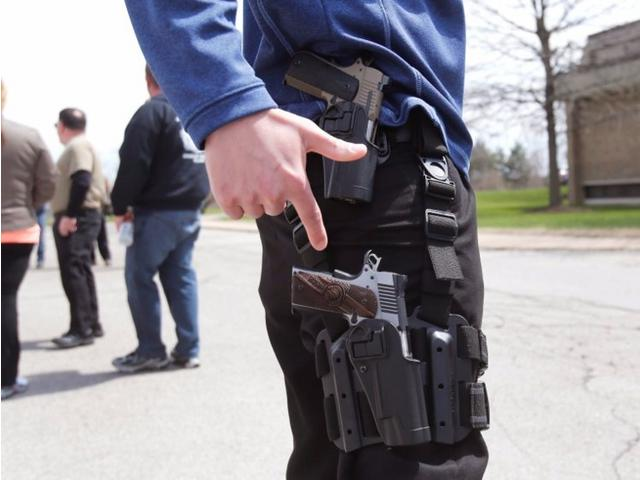pistol: (287, 256, 431, 452), (280, 42, 391, 206)
